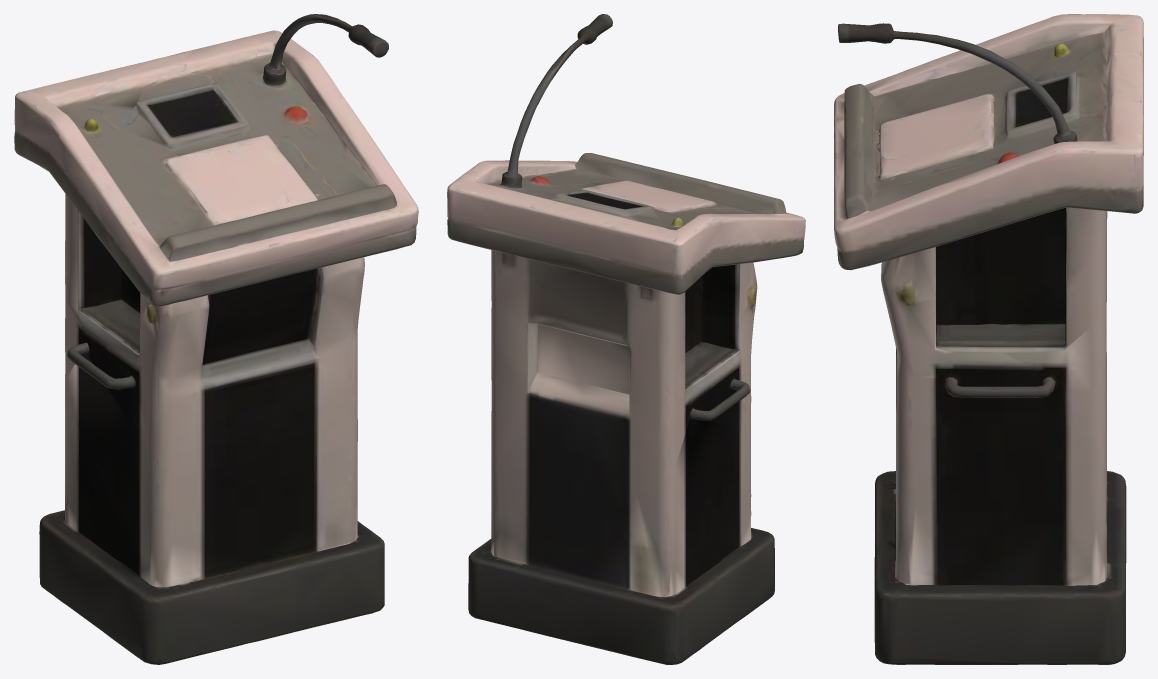
Rendered from lectern.glb.
3 renders of one model, left to right at view 1: azimuth 30°, elevation 25°; view 2: azimuth 150°, elevation 25°; view 3: azimuth 270°, elevation 25°, orthographic. The views are drawn at different scales.
Visible parts, largest first — view 1: geometry_0; view 2: geometry_0; view 3: geometry_0.
Part boxes in pixels (x1,y1,x2,y2): geometry_0: (14,14,418,664); geometry_0: (447,14,805,664); geometry_0: (834,14,1143,664).
Size of the model in its own units: 0.4738 by 1 by 0.4464.
1 material, 1 textured.
